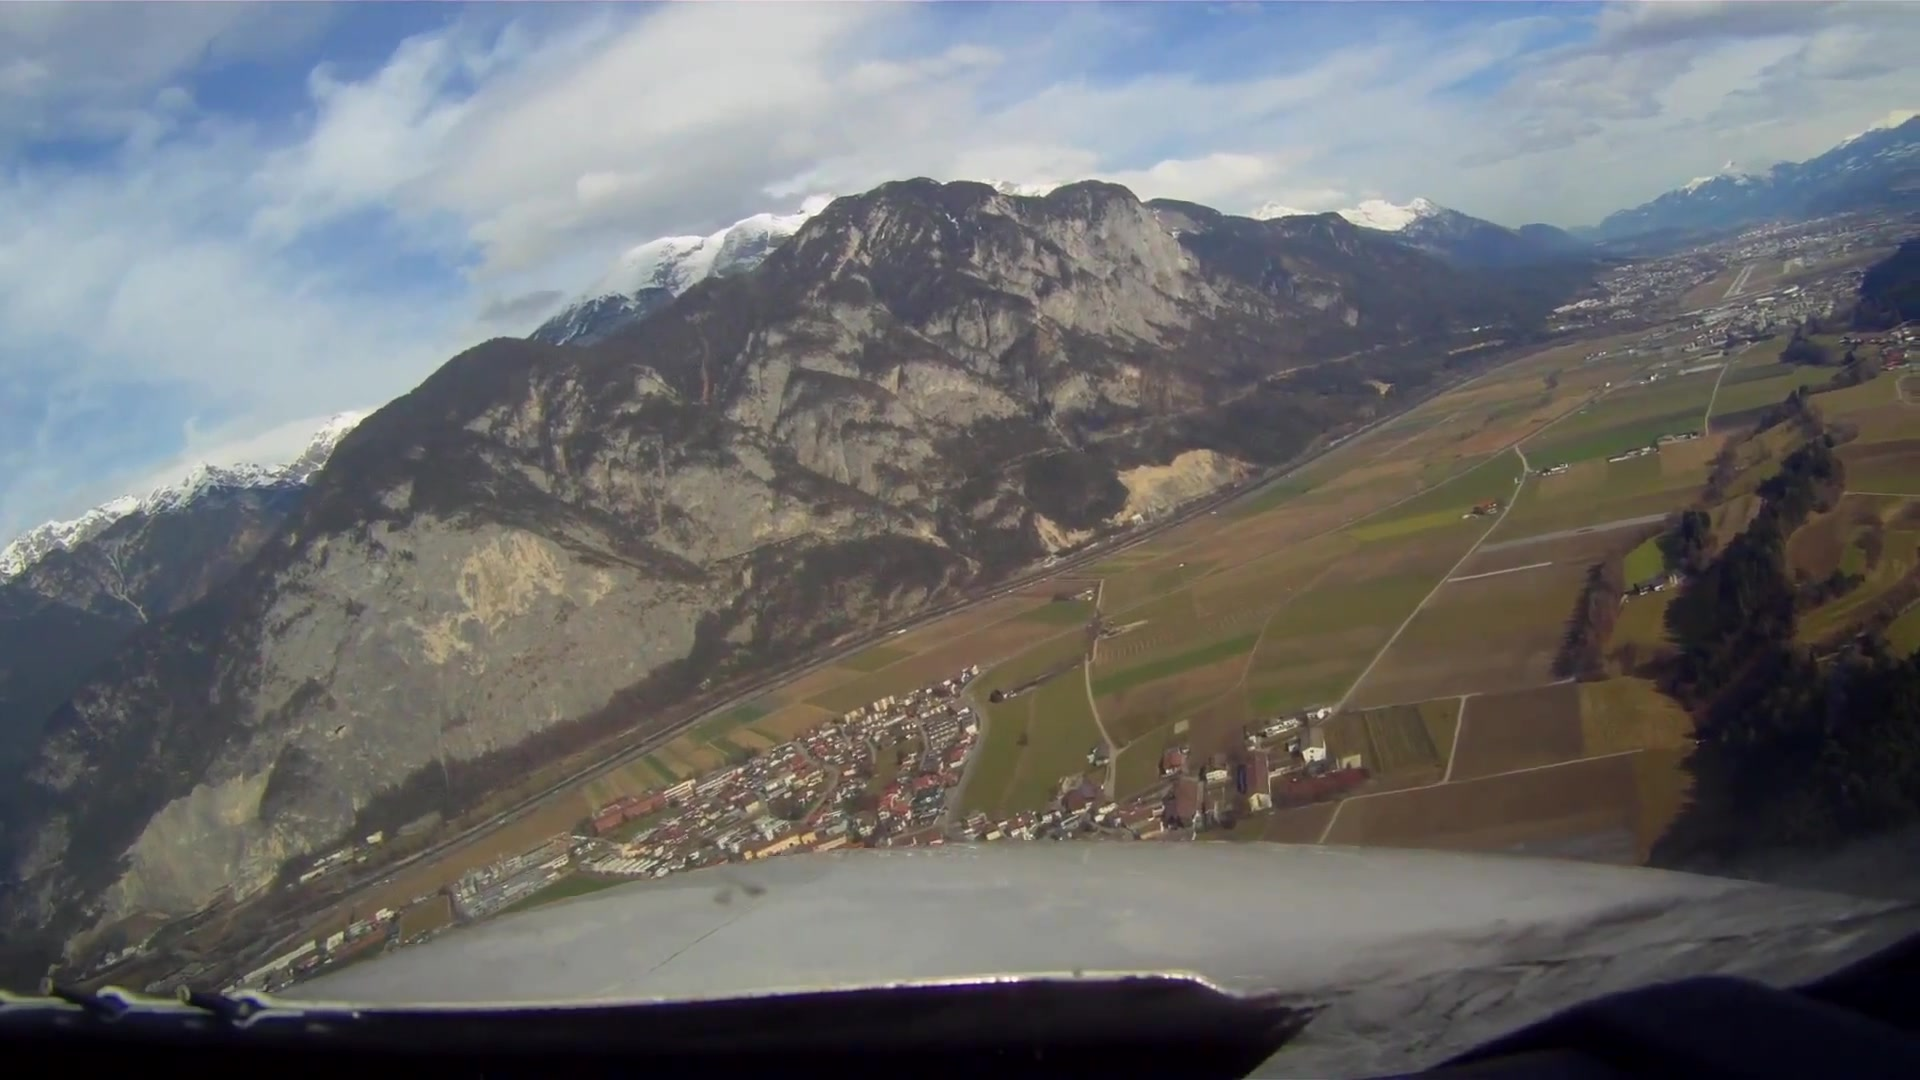runway: (1722, 265, 1756, 298)
